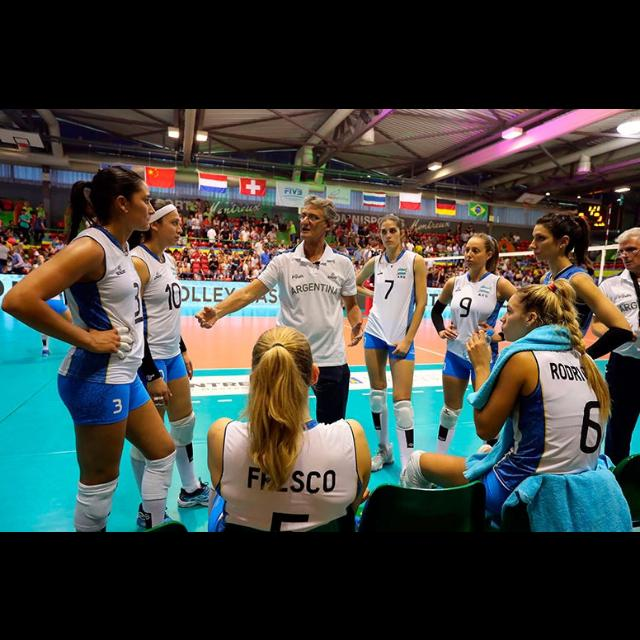head: (248, 324, 322, 410), (93, 164, 157, 232), (500, 282, 564, 344), (530, 212, 580, 262), (140, 197, 184, 247), (300, 197, 336, 237), (464, 232, 498, 272), (380, 214, 406, 248), (25, 200, 31, 208), (21, 209, 27, 215), (41, 213, 47, 219), (290, 220, 294, 224)
person: (512, 206, 632, 524), (428, 230, 534, 508), (353, 212, 432, 500), (32, 212, 48, 248), (17, 208, 31, 245), (21, 198, 34, 230), (286, 218, 298, 246)
